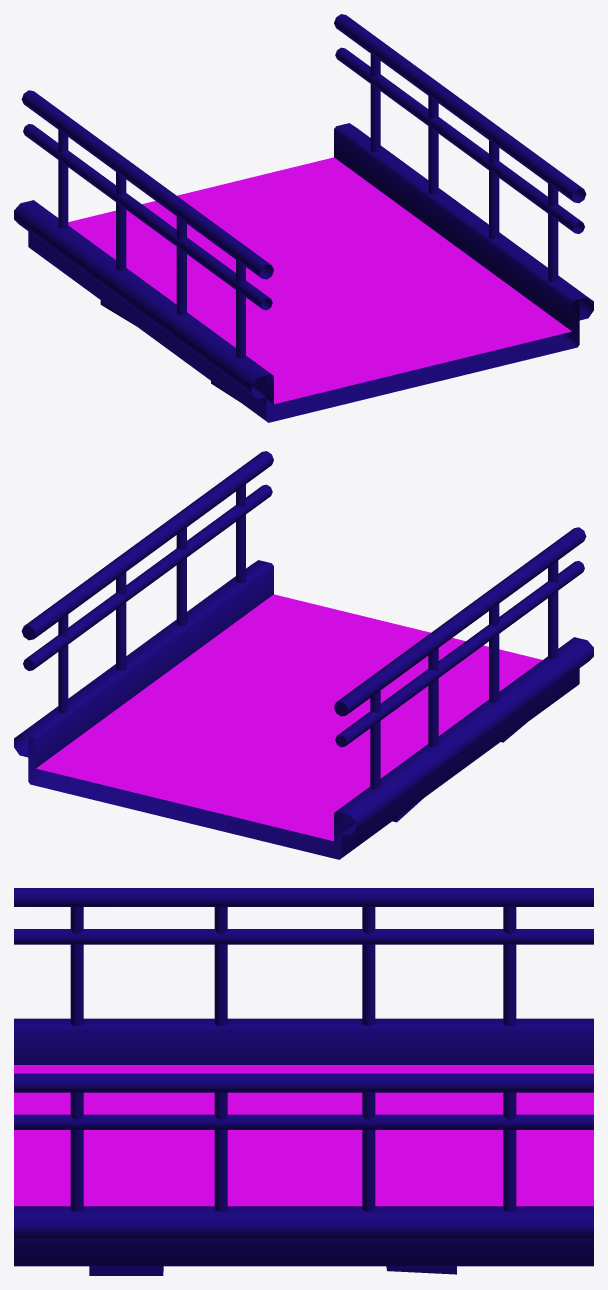
The model's file is Etage2_Facade_PasserelleMur_4x4x0_02.FBX.
3 renders of one model, top to bottom at view 1: azimuth 30°, elevation 25°; view 2: azimuth 150°, elevation 25°; view 3: azimuth 270°, elevation 25°, orthographic. The views are drawn at different scales.
Parts seen in each view (by area): view 1: Etage2_Facade_PasserelleMur_4x4x0_02; view 2: Etage2_Facade_PasserelleMur_4x4x0_02; view 3: Etage2_Facade_PasserelleMur_4x4x0_02.
Boxes of the visible parts, bbox=[...] form: Etage2_Facade_PasserelleMur_4x4x0_02: bbox=[14, 14, 593, 422]; Etage2_Facade_PasserelleMur_4x4x0_02: bbox=[14, 451, 593, 859]; Etage2_Facade_PasserelleMur_4x4x0_02: bbox=[14, 888, 593, 1275].
Size of the model in its own units: 332 by 162 by 400.
